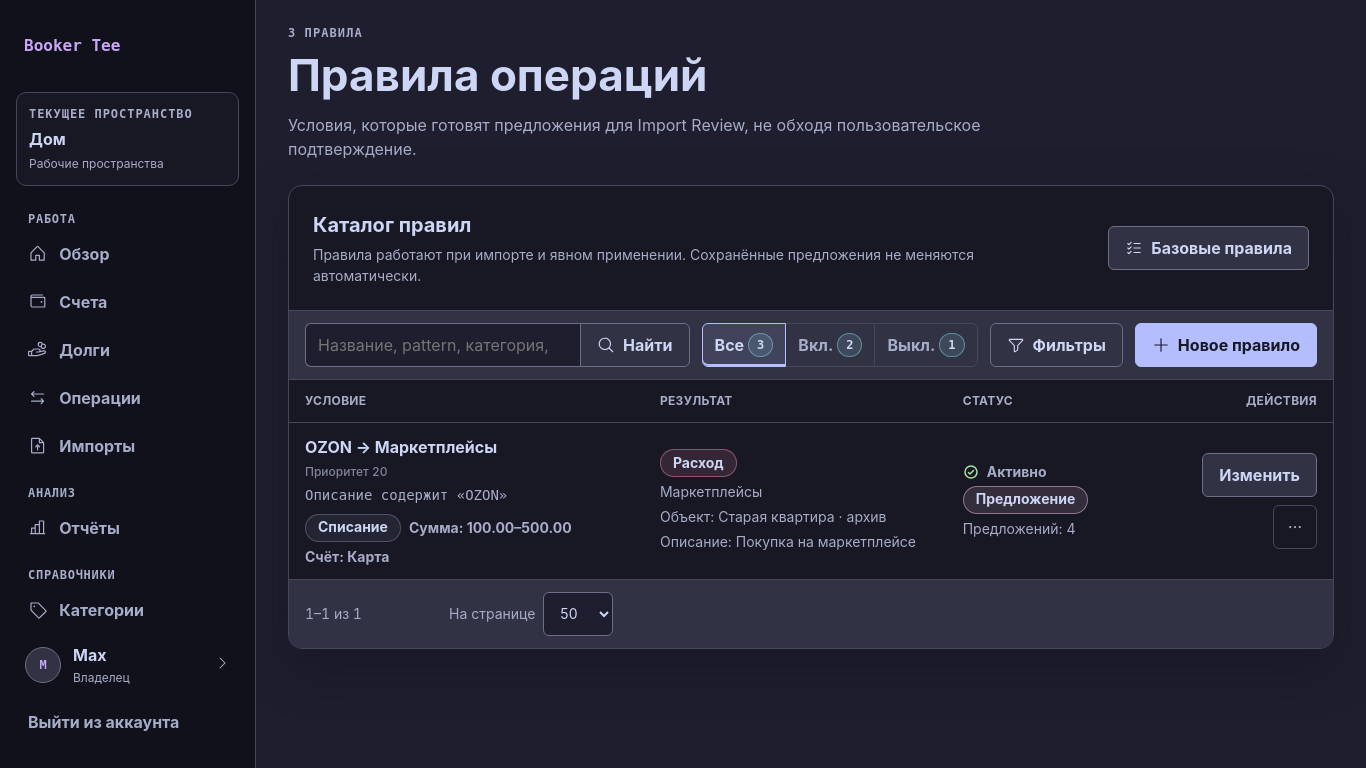
Test: TransactionRulesPage › reloads an authoritative lifecycle conflict and explicitly retries
The width and height of the screenshot is (1366, 768).
Click the button named "Ещё действия" at (1295, 527), box top-left (1273, 505), bottom-right (1317, 549)
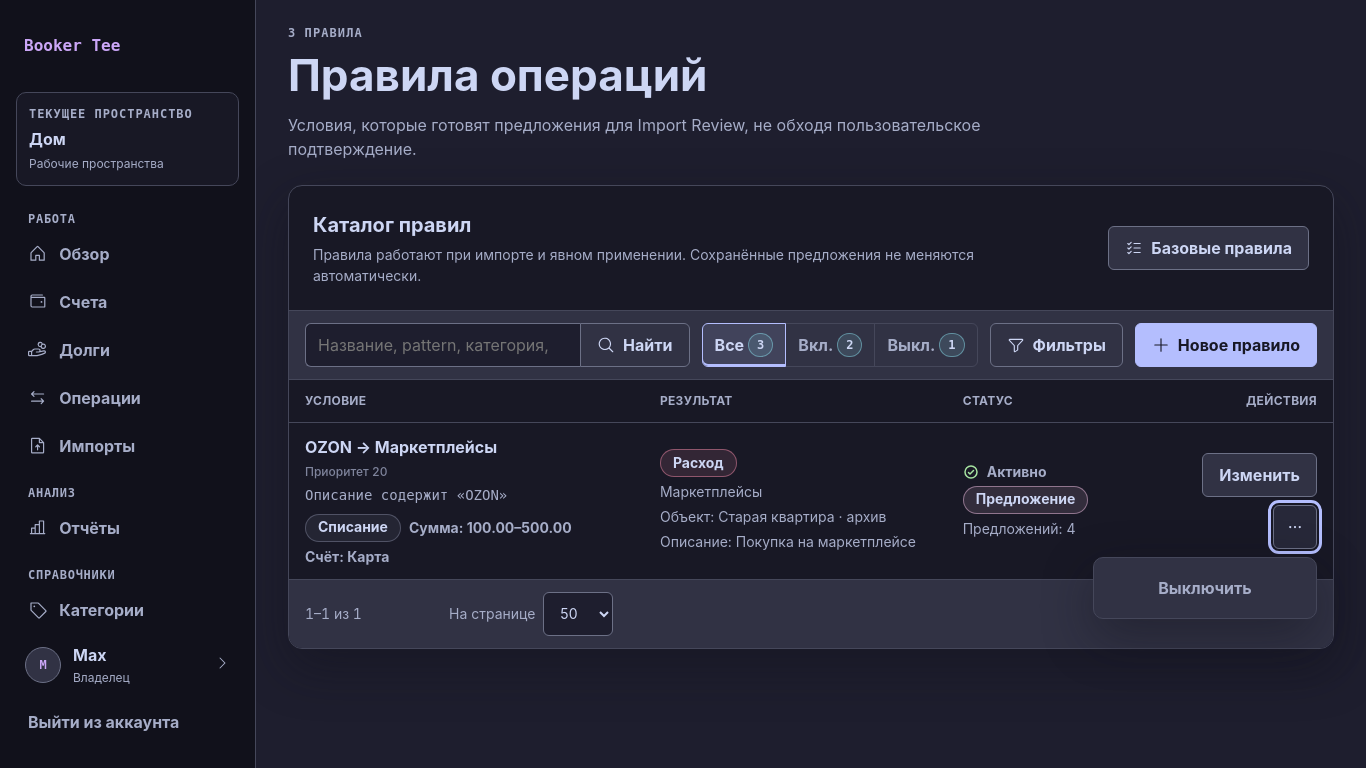
Click the button "Выключить" at (1205, 588), box top-left (1102, 566), bottom-right (1308, 610)
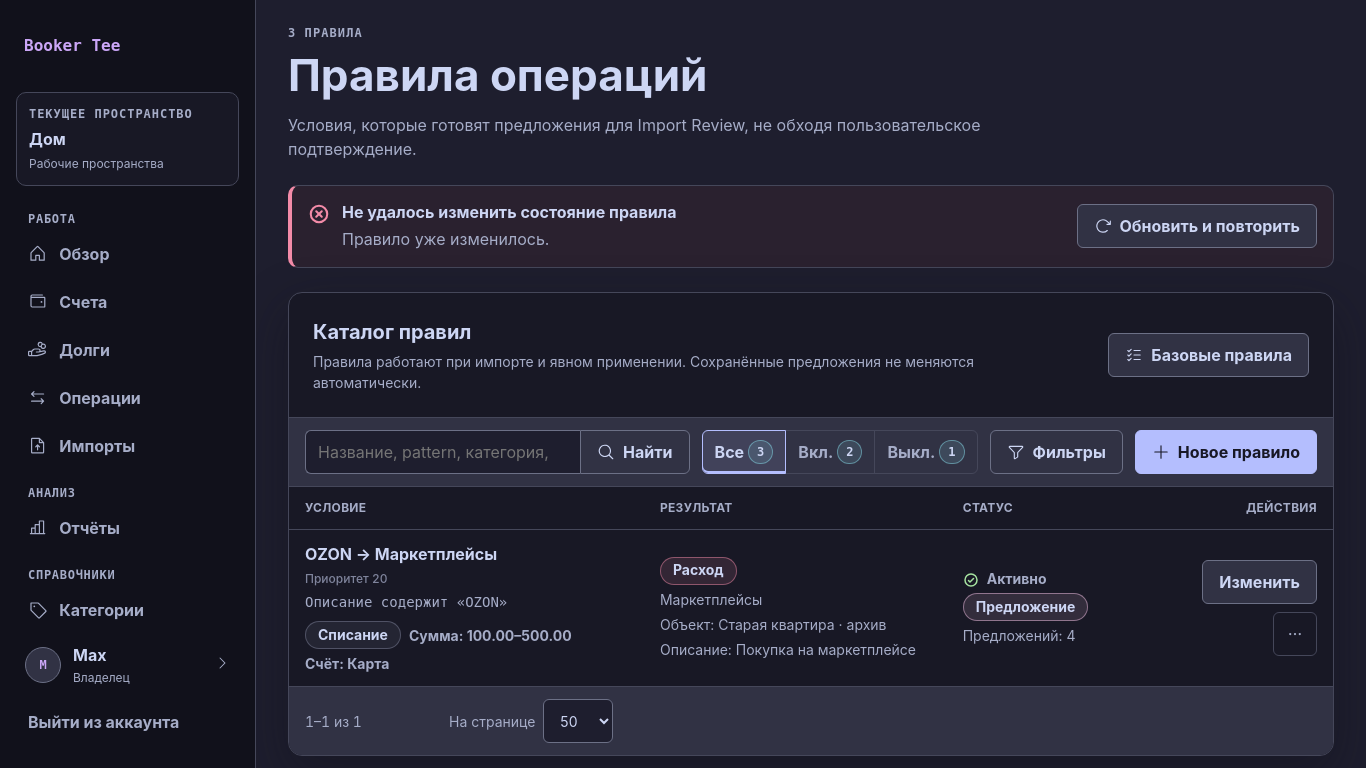
Now the text "Правило уже изменилось." is shown, box top-left (342, 229), bottom-right (549, 249)
Click the button "Обновить и повторить" at (1197, 226), box top-left (1076, 204), bottom-right (1317, 248)
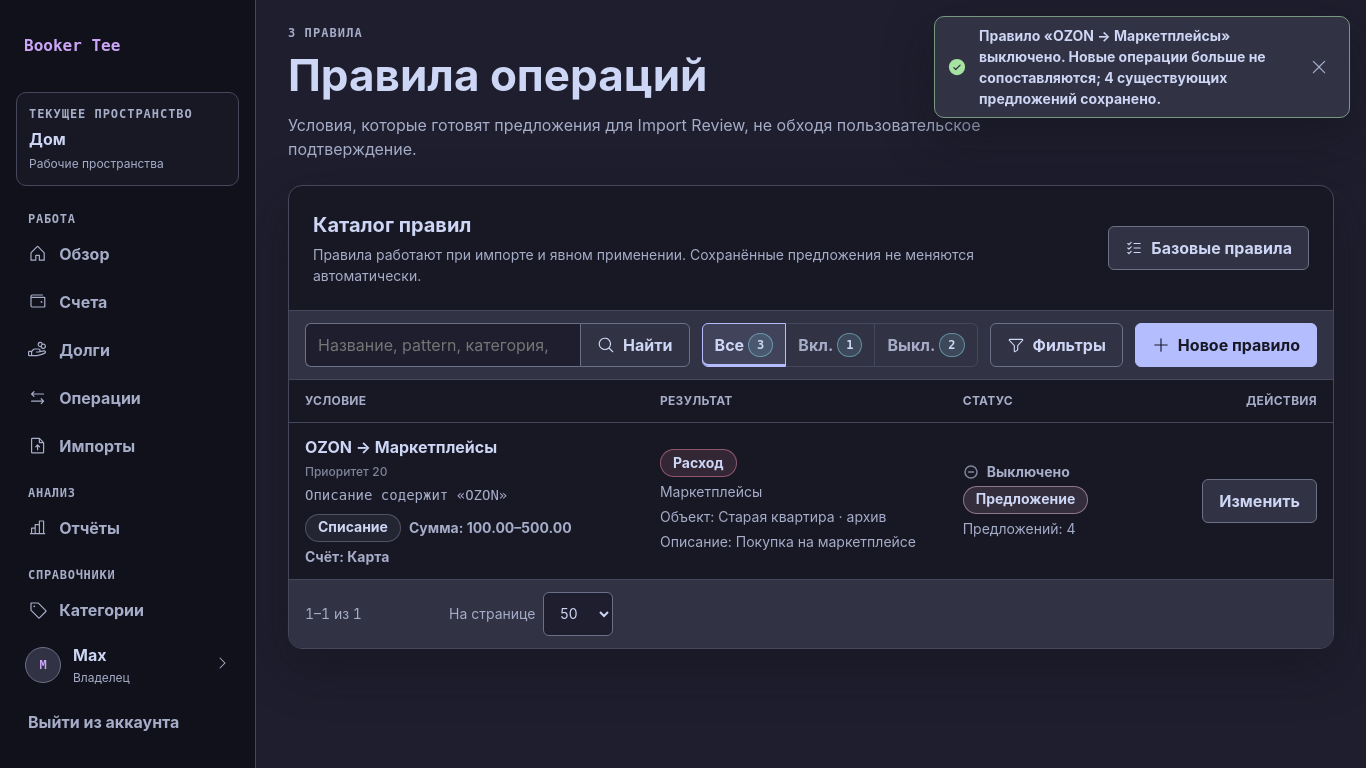
Now the text "Правило «OZON → Маркетплейсы» выключено" is shown, box top-left (979, 27), bottom-right (1266, 107)
